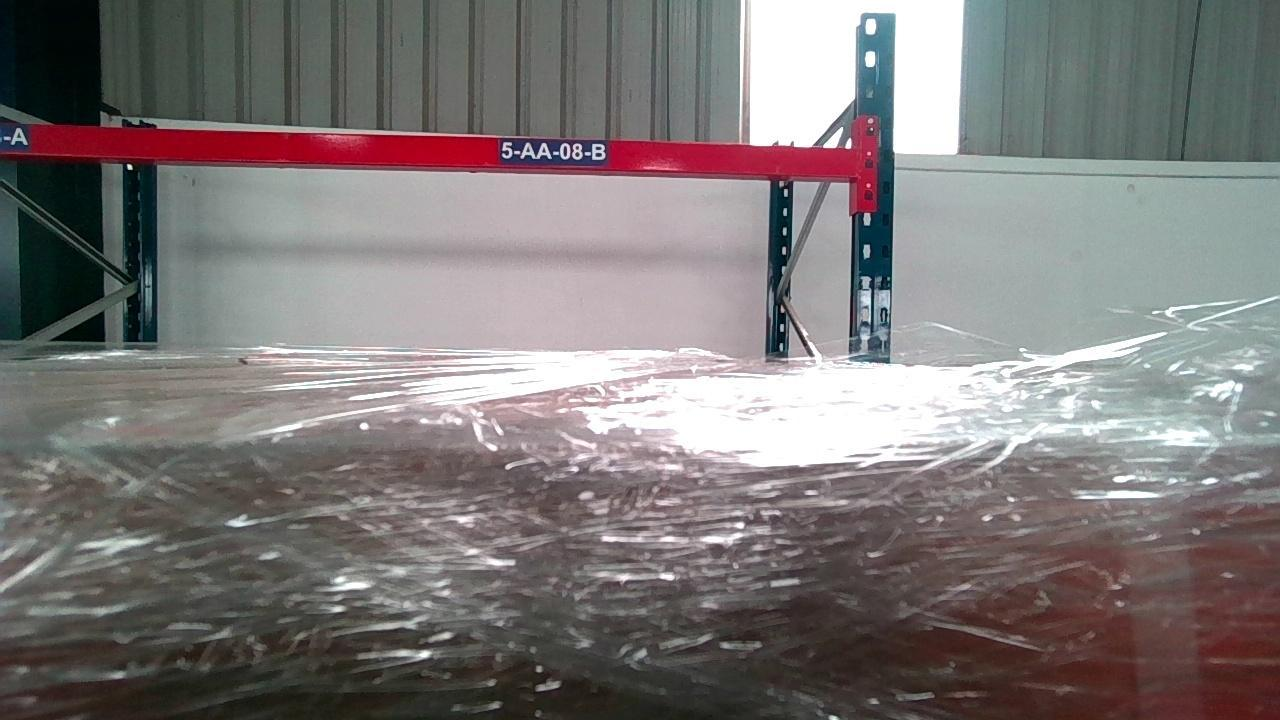h_rack: (0, 122, 861, 177)
